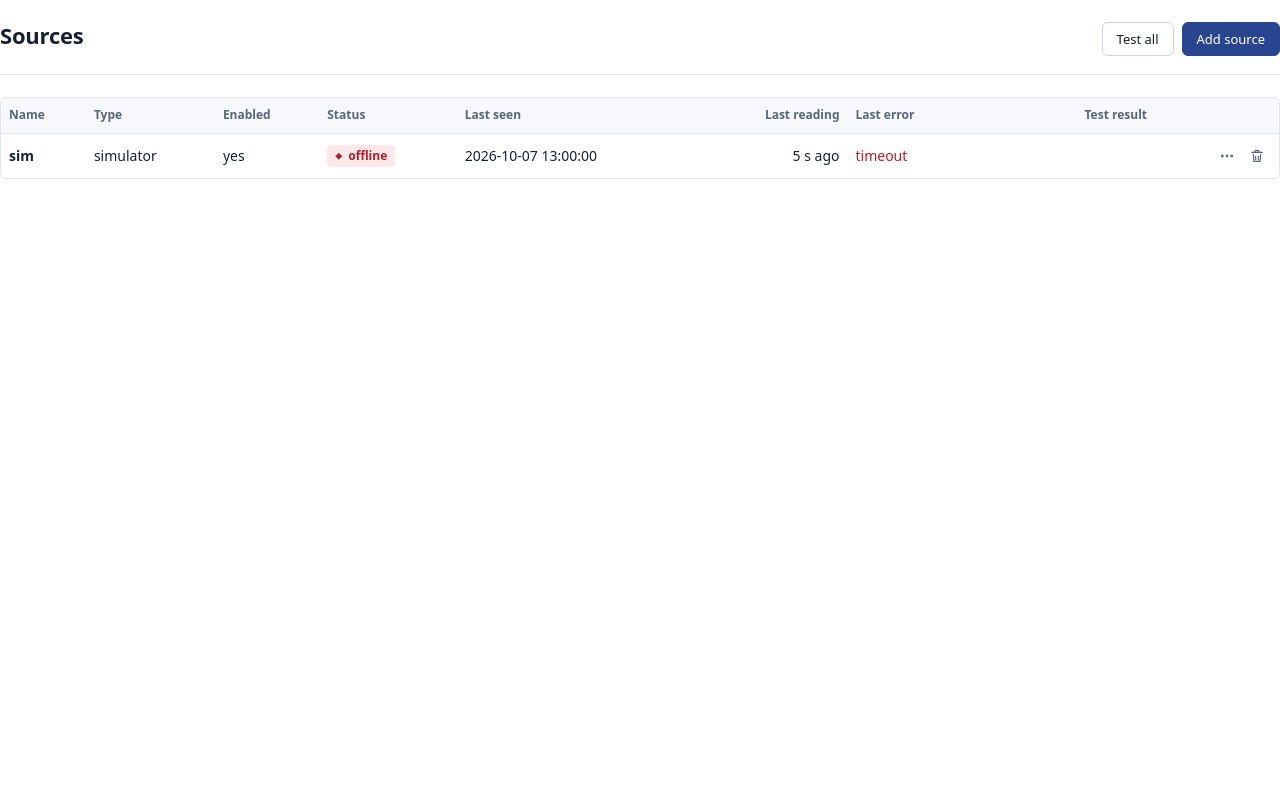
Test: SourcesPage › adding and editing › Edit opens a dialog named after the source with its stored values; Cancel and Escape close it and focus returns to the row's menu button
Step 1. Click the button named "Actions for " → {"x": 1227, "y": 156}, box [1213,142,1241,170]
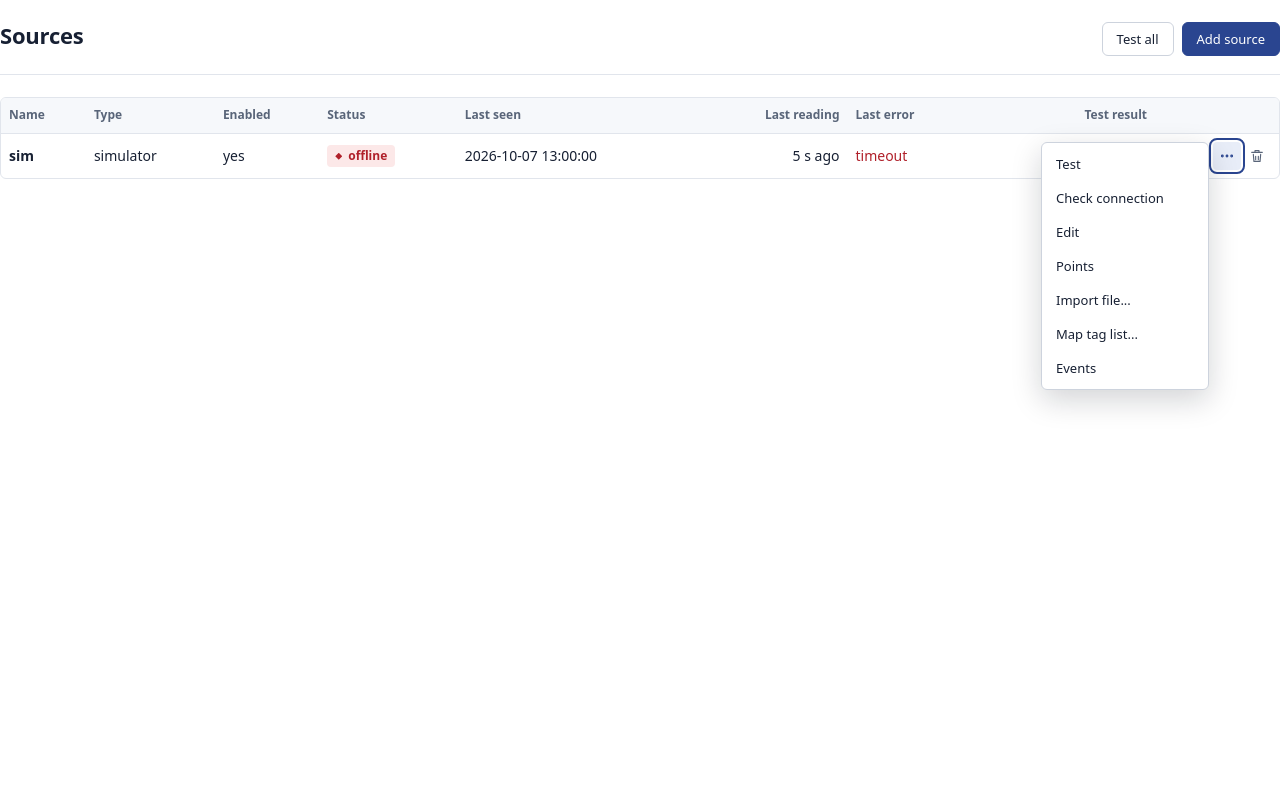
Step 2. Click the menu item "Edit" → {"x": 1125, "y": 232}, box [1046,215,1204,249]
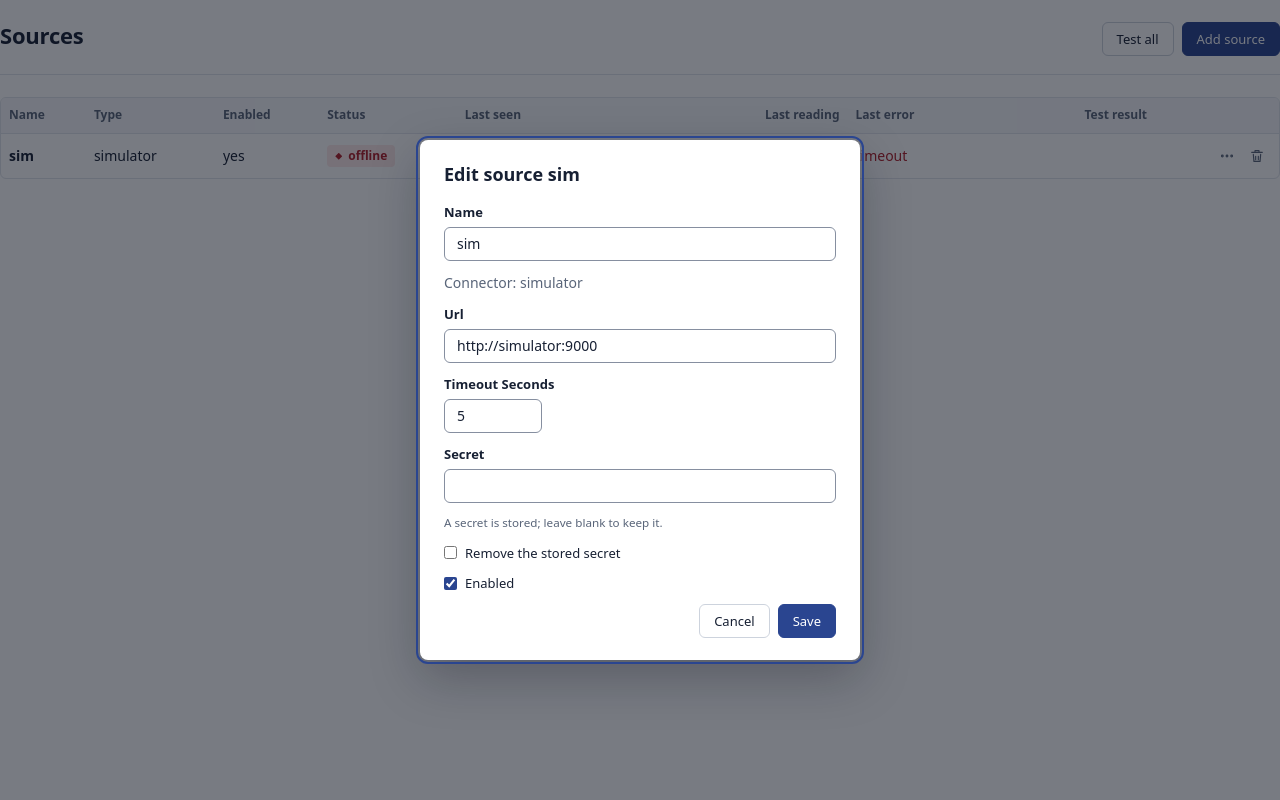
expect the number of dialogs is 1: met, box [420,140,860,660]
expect the field labelled "Name" holds "sim": met, box [444,227,836,261]
expect the field labelled "Url" holds "http://simulator:9000": met, box [444,329,836,363]
Step 3. Click the button "Cancel" → {"x": 734, "y": 621}, box [699,604,770,638]
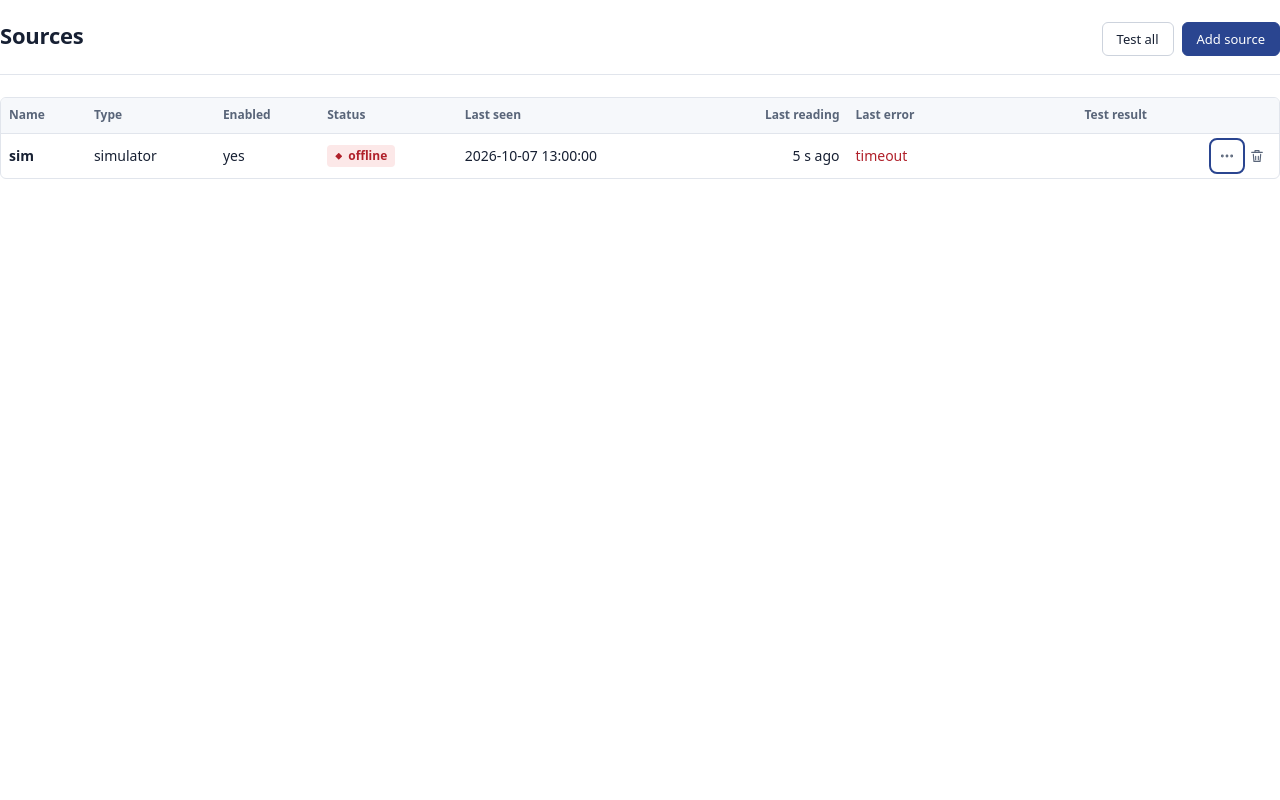
expect the dialog is gone: met
Step 4. Click the button named "Actions for " → {"x": 1227, "y": 156}, box [1213,142,1241,170]
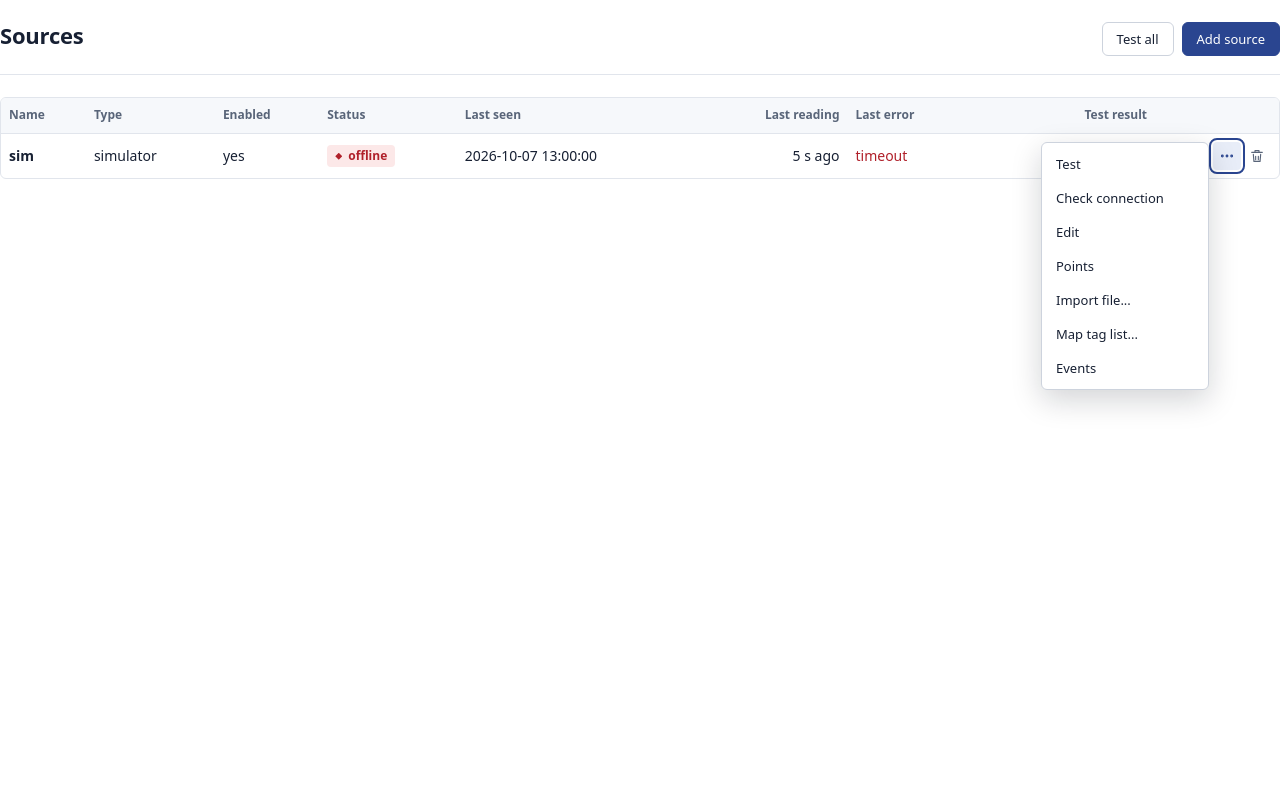
Step 5. Click the menu item "Edit" → {"x": 1125, "y": 232}, box [1046,215,1204,249]
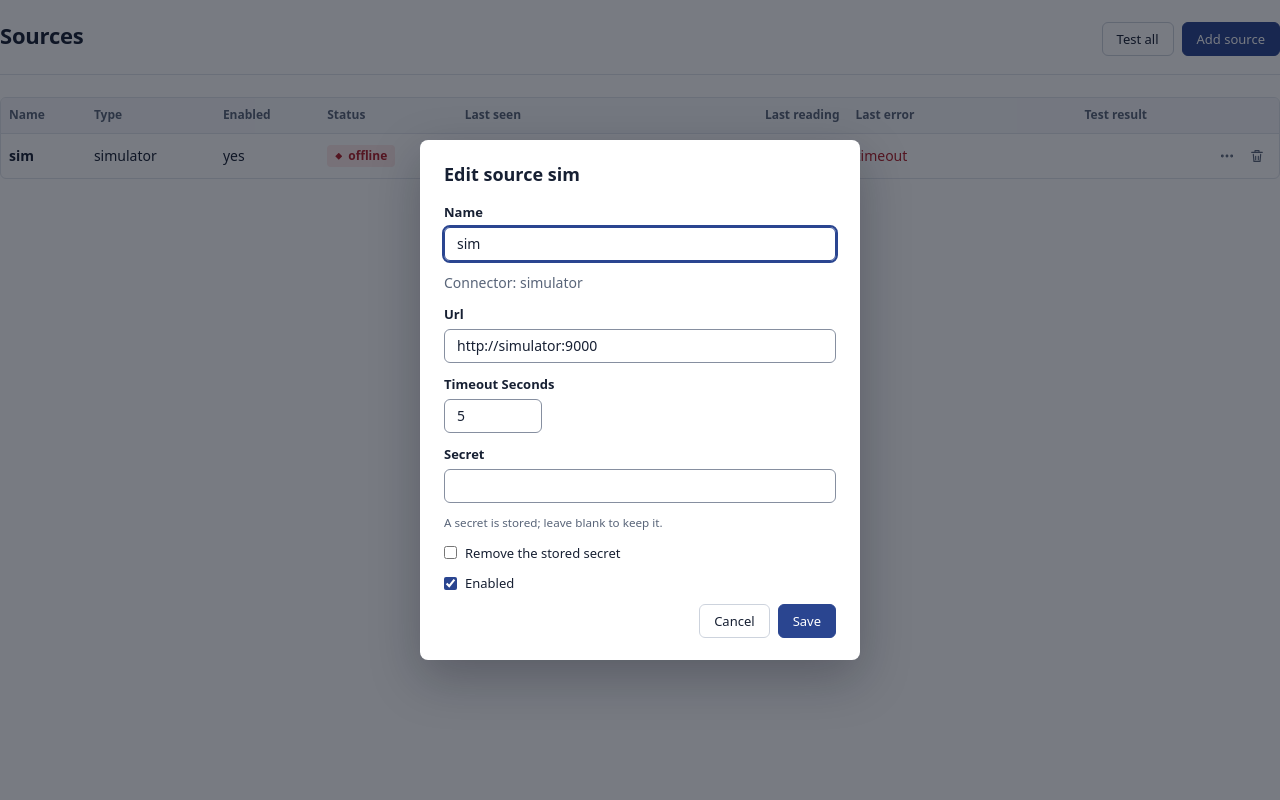
expect the dialog "Edit source sim" is shown: met, box [420,140,860,660]
Step 6. Press Escape
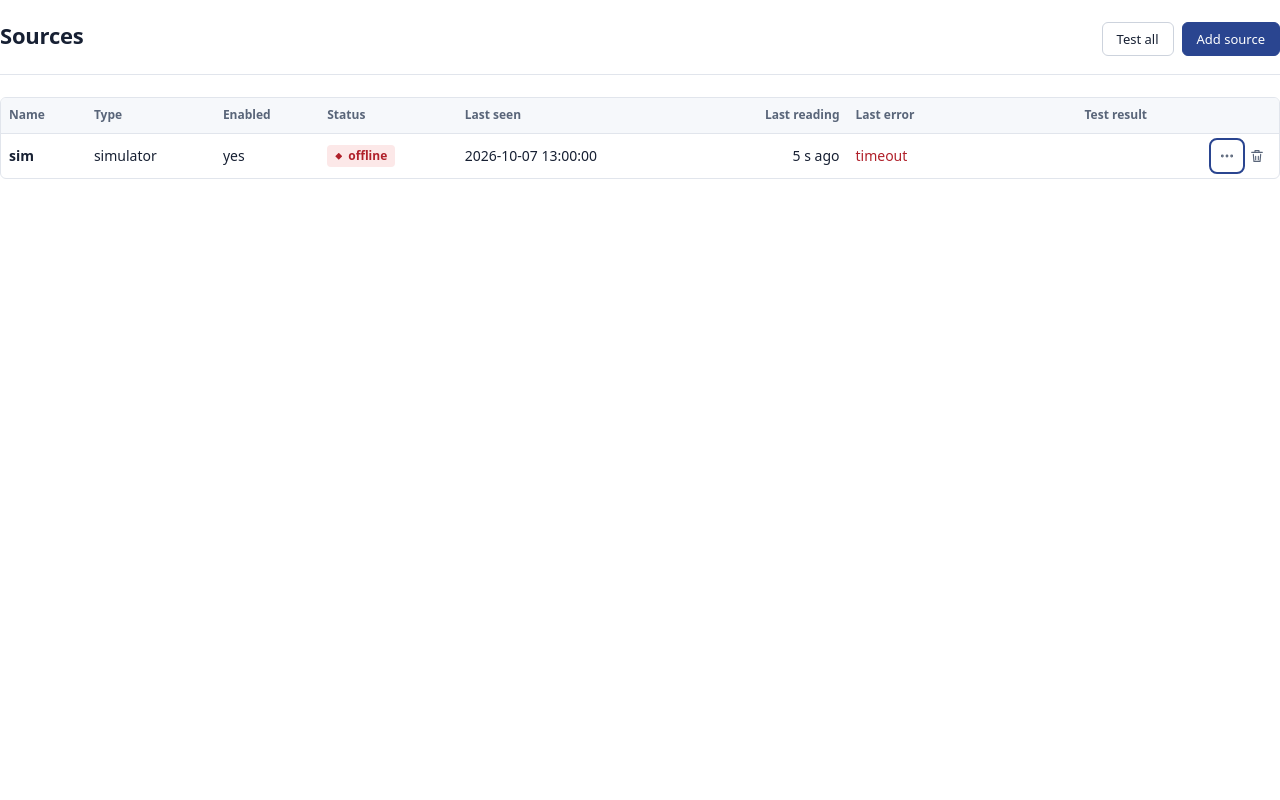
expect the dialog is gone: met
